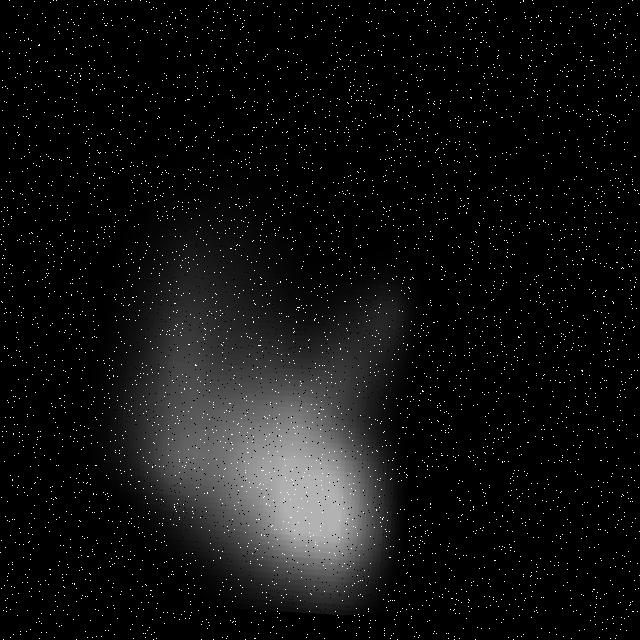person: (35, 142, 493, 639)
